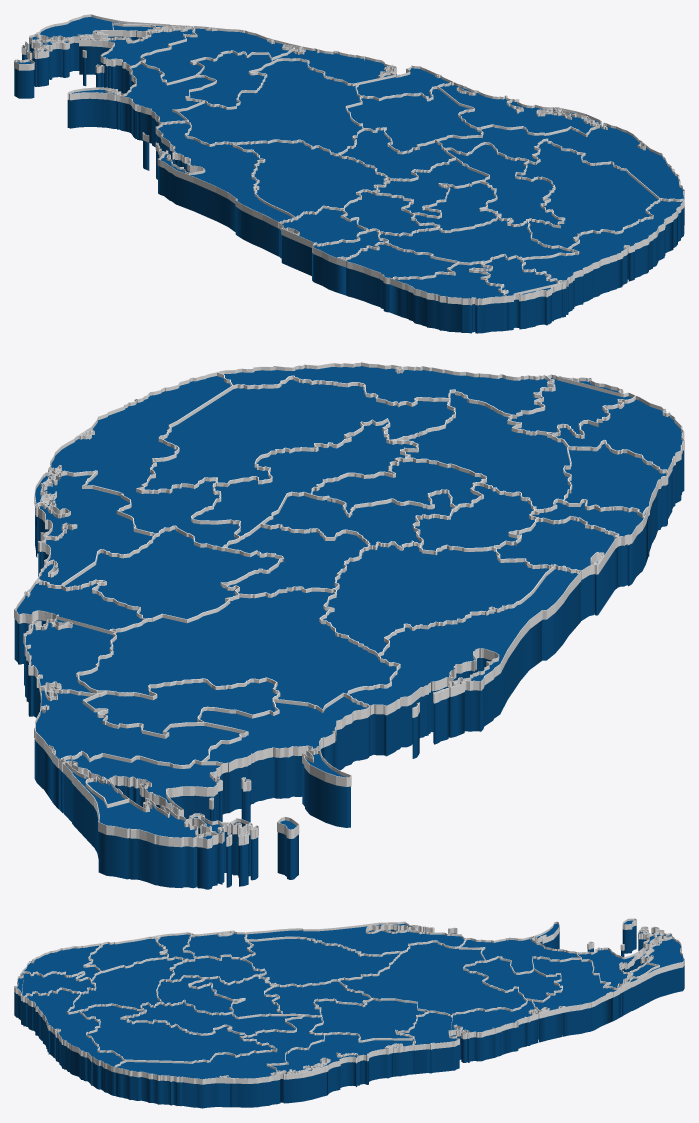
The model's file is srilanka_map.glb.
3 views of the same model, one above another, from view 1: azimuth 30°, elevation 25°; view 2: azimuth 150°, elevation 25°; view 3: azimuth 270°, elevation 25° (orthographic). The views are drawn at different scales.
Visible parts, largest first — view 1: 1, Anuradhapura, Puttlam, Monaragala, Hambantota, Kurunegala, Ampara, Galle, Mannar, Polonnaruwa, Ratnapura, Badulla (+14 smaller); view 2: 1, Anuradhapura, Puttlam, Monaragala, Kurunegala, Ampara, Mannar, Jaffna, Polonnaruwa, Ratnapura, Trincomalee, Mulativu (+14 smaller); view 3: 1, Ampara, Anuradhapura, Trincomalee, Batticaloa, Monaragala, Hambantota, Kurunegala, Mulativu, Polonnaruwa, Ratnapura, Jaffna (+14 smaller).
Part boxes in pixels (<box>): 1: <box>14,14,684,305</box>; Anuradhapura: <box>179,61,361,153</box>; Puttlam: <box>143,123,292,256</box>; Monaragala: <box>516,141,657,248</box>; Hambantota: <box>523,200,684,314</box>; Kurunegala: <box>237,142,385,216</box>; Ampara: <box>438,126,684,224</box>; Galle: <box>389,264,506,333</box>; Mannar: <box>67,64,213,147</box>; Polonnaruwa: <box>347,89,480,151</box>; Ratnapura: <box>379,219,573,262</box>; Badulla: <box>447,144,561,224</box>; 1: <box>14,362,684,848</box>; Anuradhapura: <box>79,590,396,708</box>; Puttlam: <box>349,569,580,758</box>; Monaragala: <box>144,379,453,490</box>; Kurunegala: <box>323,545,549,653</box>; Ampara: <box>50,376,238,547</box>; Mannar: <box>200,696,369,827</box>; Jaffna: <box>59,767,298,889</box>; Polonnaruwa: <box>64,529,278,619</box>; Ratnapura: <box>406,393,569,509</box>; Trincomalee: <box>14,583,142,717</box>; Mulativu: <box>34,690,239,809</box>; 1: <box>14,918,684,1084</box>; Ampara: <box>115,1016,323,1108</box>; Anuradhapura: <box>340,942,525,1014</box>; Trincomalee: <box>401,1000,538,1074</box>; Batticaloa: <box>271,1034,414,1103</box>; Monaragala: <box>81,1005,273,1061</box>; Hambantota: <box>23,990,123,1095</box>; Kurunegala: <box>245,938,399,984</box>; Mulativu: <box>533,958,619,1042</box>; Polonnaruwa: <box>312,1000,425,1040</box>; Ratnapura: <box>69,959,182,1012</box>; Jaffna: <box>619,920,684,1017</box>.
Size of the model in its own units: 0.699 by 0.0592 by 1.23.
